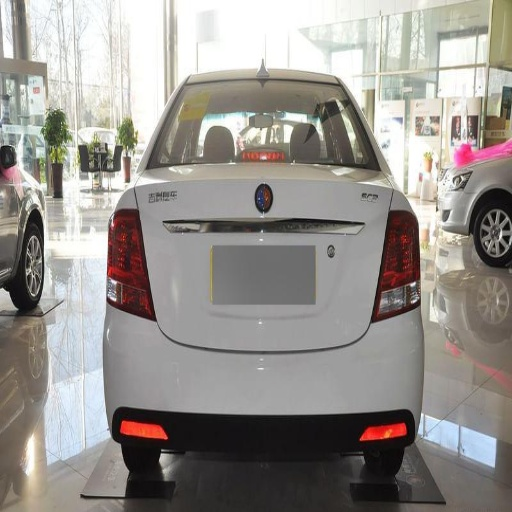back_bumper: (99, 306, 422, 498)
tailgate: (134, 162, 392, 350)
